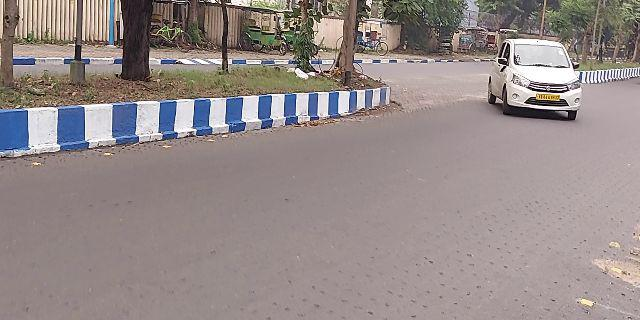Car: (486, 41, 586, 118)
